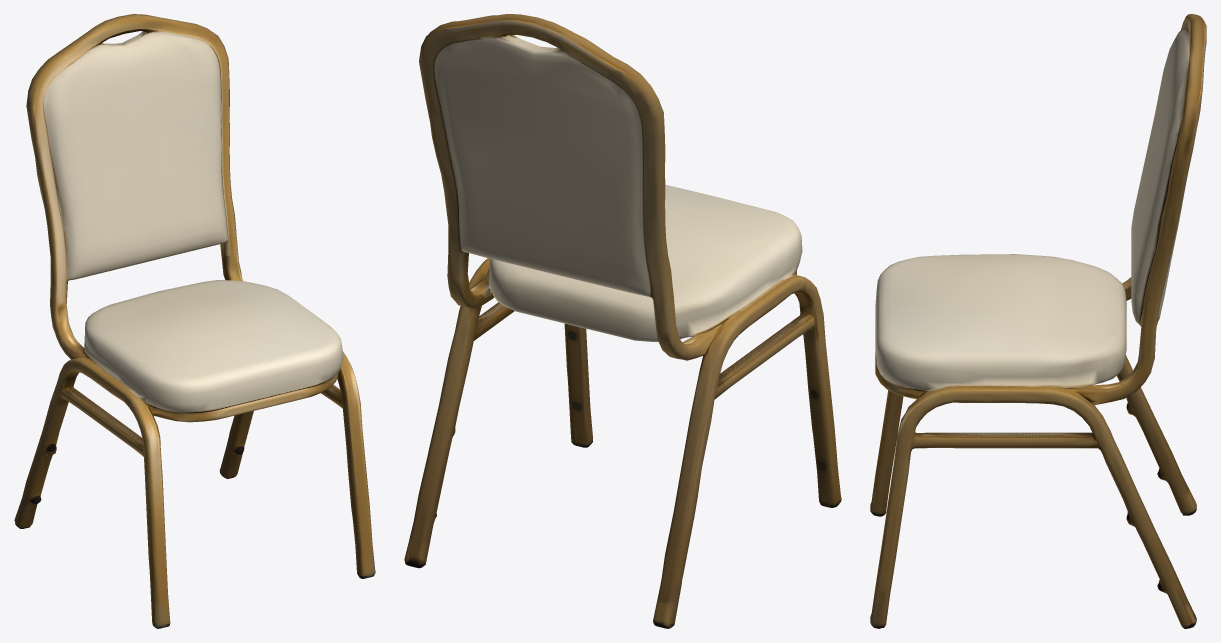
File: Summit_Chair_Gold_0404163637_texture.glb
3 views of the same model, side by side, from view 1: azimuth 30°, elevation 25°; view 2: azimuth 150°, elevation 25°; view 3: azimuth 270°, elevation 25° (orthographic). The views are drawn at different scales.
Parts seen in each view (by area): view 1: Mesh_0.001; view 2: Mesh_0.001; view 3: Mesh_0.001.
Part boxes in pixels (bbox=[...]): Mesh_0.001: bbox=[14, 14, 375, 628]; Mesh_0.001: bbox=[404, 14, 841, 628]; Mesh_0.001: bbox=[870, 14, 1206, 628].
Bounding box in the file's own units: 15.31 × 32 × 17.94.
1 material, 1 textured.
